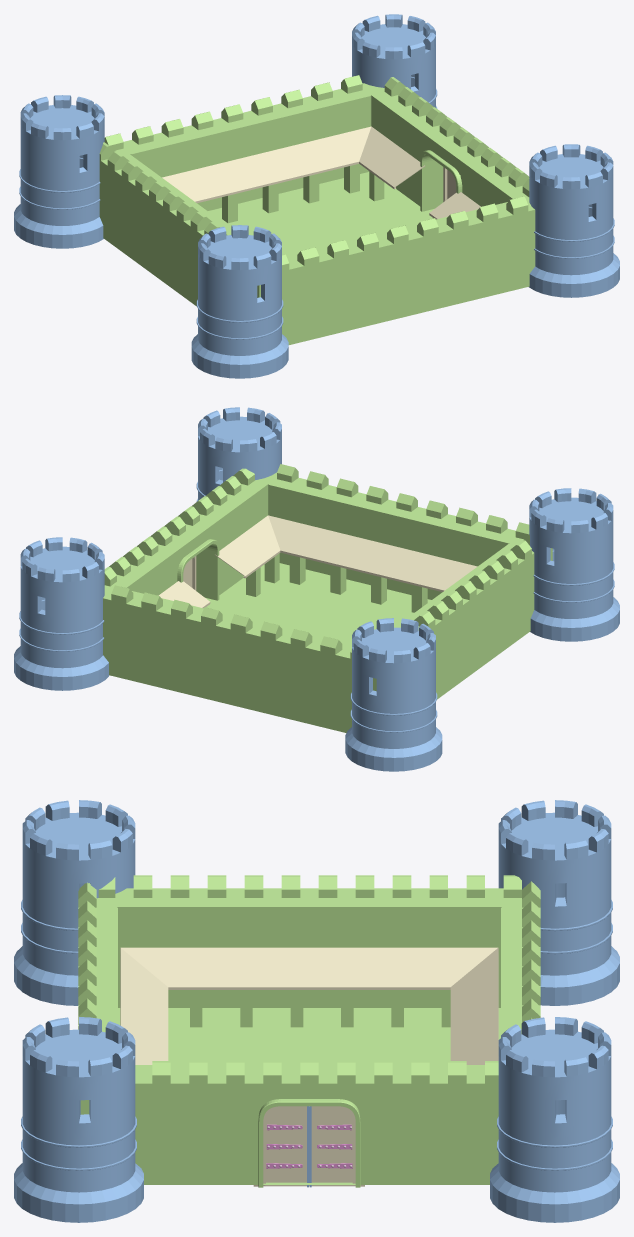
File: Castle.fbx
3 views of the same model, one above another, from view 1: azimuth 30°, elevation 25°; view 2: azimuth 150°, elevation 25°; view 3: azimuth 270°, elevation 25° (orthographic). The views are drawn at different scales.
Visible parts, largest first — view 1: castle; view 2: castle; view 3: castle.
Boxes of the visible parts, x1=… form: castle: x1=14, y1=14, x2=619, y2=378; castle: x1=14, y1=407, x2=619, y2=771; castle: x1=14, y1=800, x2=619, y2=1222.
Bounding box in the file's own units: 2786 × 759 × 2622.
